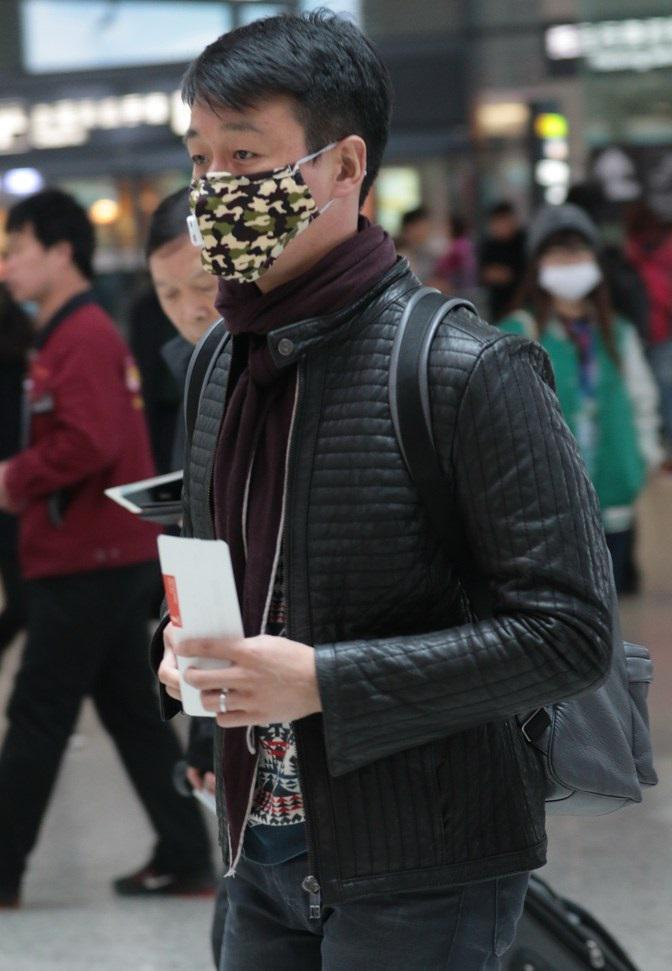NONE: (157, 264, 245, 358), (1, 231, 59, 299)
OK: (180, 109, 350, 279), (540, 238, 601, 306)
